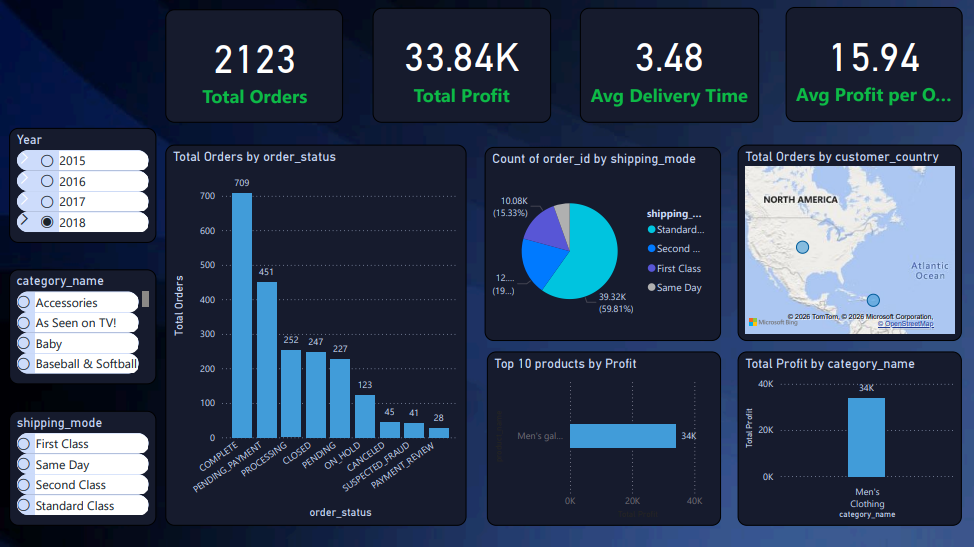

The dashboard page shown, as its layout file describes it:
{"tool":"powerbi","page":{"name":"Page 1","canvas":[1280,720],"ordinal":0},"visuals":[{"type":"card","fields":{"Values":["orders.Total Orders"]},"box":[218,11.7,232.7,149.3],"z":0},{"type":"card","fields":{"Values":["orders.Total Profit"]},"box":[490.2,10.2,234.1,150.7],"z":1000},{"type":"card","fields":{"Values":["orders.Avg Delivery Time"]},"box":[762.4,10.2,234.1,150.7],"z":2000},{"type":"card","fields":{"Values":["orders.Avg Profit per Order"]},"box":[1031.7,8.8,232.7,150.7],"z":3000},{"type":"clusteredColumnChart","fields":{"Category":["orders.order_status"],"Y":["orders.Total Orders"]},"box":[218,190.2,395.1,500.5],"z":4000},{"type":"clusteredColumnChart","fields":{"Category":["products.category_name"],"Y":["orders.Total Profit"]},"box":[968.8,462.4,294.1,228.3],"z":5000},{"type":"pieChart","fields":{"Category":["shipping.shipping_mode"],"Y":["CountNonNull(shipping.order_id)"]},"box":[636.6,193.2,310.2,254.6],"z":6000},{"type":"map","fields":{"Category":["customers.customer_country"],"Size":["orders.Total Orders"]},"box":[968.8,190.2,294.1,257.6],"z":8000},{"type":"clusteredBarChart","title":"Top 10 products by Profit","fields":{"Category":["products.product_name"],"Y":["orders.Total Profit"]},"box":[639.5,462.4,307.3,228.3],"z":9000},{"type":"listSlicer","fields":{"Values":["orders.order_date_dateorders.Variation.Date Hierarchy.Year","orders.order_date_dateorders.Variation.Date Hierarchy.Quarter","orders.order_date_dateorders.Variation.Date Hierarchy.Month","orders.order_date_dateorders.Variation.Date Hierarchy.Day"]},"box":[13.2,168.3,193.2,150.7],"z":10000},{"type":"listSlicer","fields":{"Values":["products.category_name"]},"box":[13.2,354.1,193.2,150.7],"z":11000},{"type":"listSlicer","fields":{"Values":["shipping.shipping_mode"]},"box":[13.2,540,193.2,150.7],"z":11001}]}

Visuals, with their boxes in screenshot pixels (x1, y1, x2, y2), scaled from the page's 1280x720 canvas onto the 974x547 screenshot:
card - orders.Total Orders: bbox(166, 9, 343, 122)
card - orders.Total Profit: bbox(373, 8, 551, 122)
card - orders.Avg Delivery Time: bbox(580, 8, 758, 122)
card - orders.Avg Profit per Order: bbox(785, 7, 962, 121)
clusteredColumnChart - orders.order_status x orders.Total Orders: bbox(166, 144, 467, 525)
clusteredColumnChart - products.category_name x orders.Total Profit: bbox(737, 351, 961, 525)
pieChart - shipping.shipping_mode x CountNonNull(shipping.order_id): bbox(484, 147, 720, 340)
map - customers.customer_country x orders.Total Orders: bbox(737, 144, 961, 340)
"Top 10 products by Profit" clusteredBarChart: bbox(487, 351, 720, 525)
listSlicer - orders.order_date_dateorders.Variation.Date Hierarchy.Year x orders.order_date_dateorders.Variation.Date Hierarchy.Quarter: bbox(10, 128, 157, 242)
listSlicer - products.category_name: bbox(10, 269, 157, 384)
listSlicer - shipping.shipping_mode: bbox(10, 410, 157, 525)
